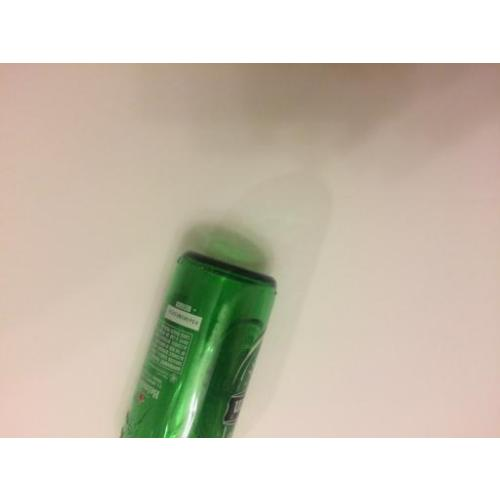metal: (122, 247, 274, 440)
